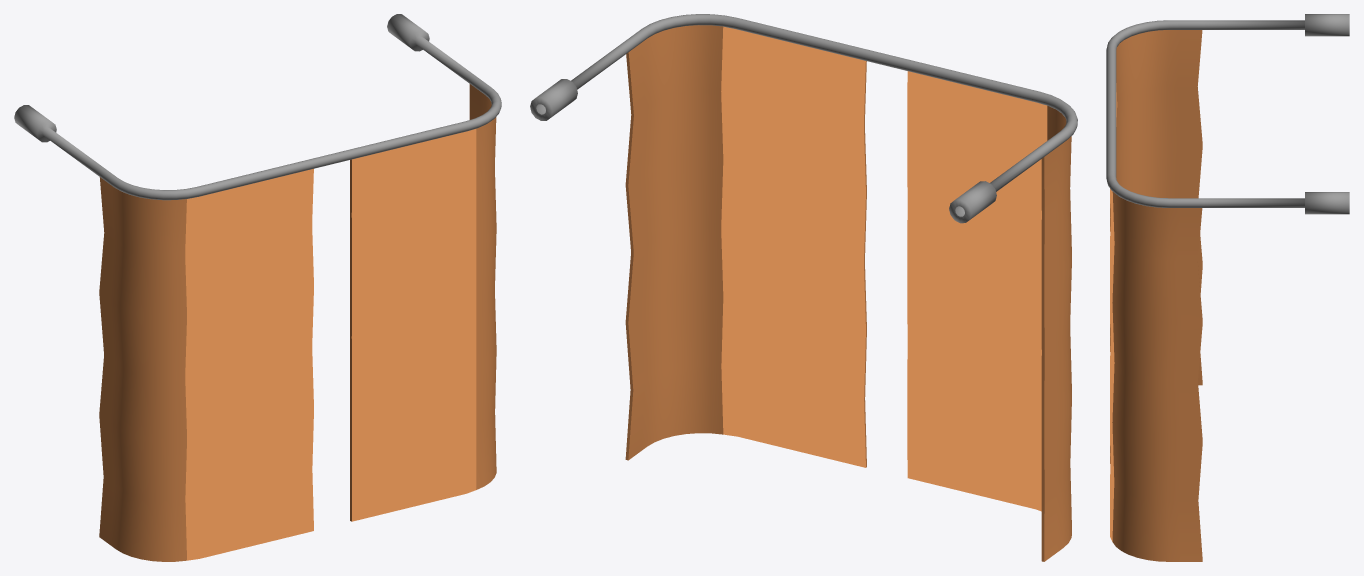
File: perde.fbx
The picture shows the model from 3 angles, left to right: view 1: azimuth 30°, elevation 25°; view 2: azimuth 150°, elevation 25°; view 3: azimuth 270°, elevation 25°; orthographic projection. The views are drawn at different scales.
Parts seen in each view (by area): view 1: solPerde, sagPerde, demir; view 2: sagPerde, solPerde, demir; view 3: sagPerde, solPerde, demir.
Boxes of the visible parts, x1,y1,x2,y2 form: solPerde: [99, 169, 313, 561]; sagPerde: [350, 84, 496, 521]; demir: [14, 14, 501, 200]; sagPerde: [625, 25, 866, 467]; solPerde: [907, 71, 1071, 561]; demir: [530, 14, 1077, 223]; sagPerde: [1110, 189, 1202, 561]; solPerde: [1110, 30, 1202, 463]; demir: [1106, 14, 1349, 214].
Size of the model in its own units: 259 by 237 by 142.
